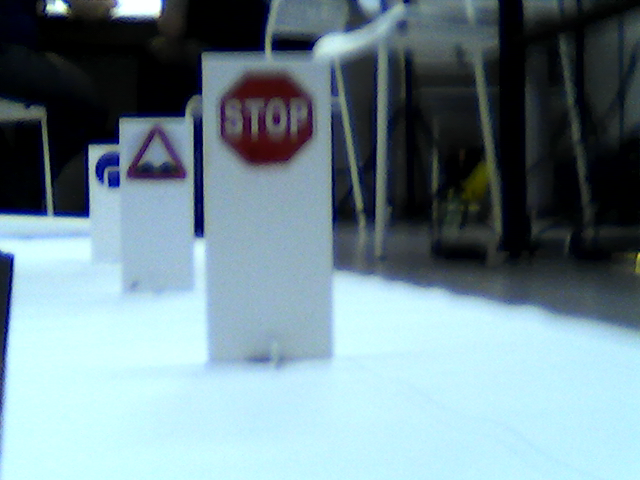Nerov: (128, 125, 186, 179)
Stop: (213, 68, 320, 165)
